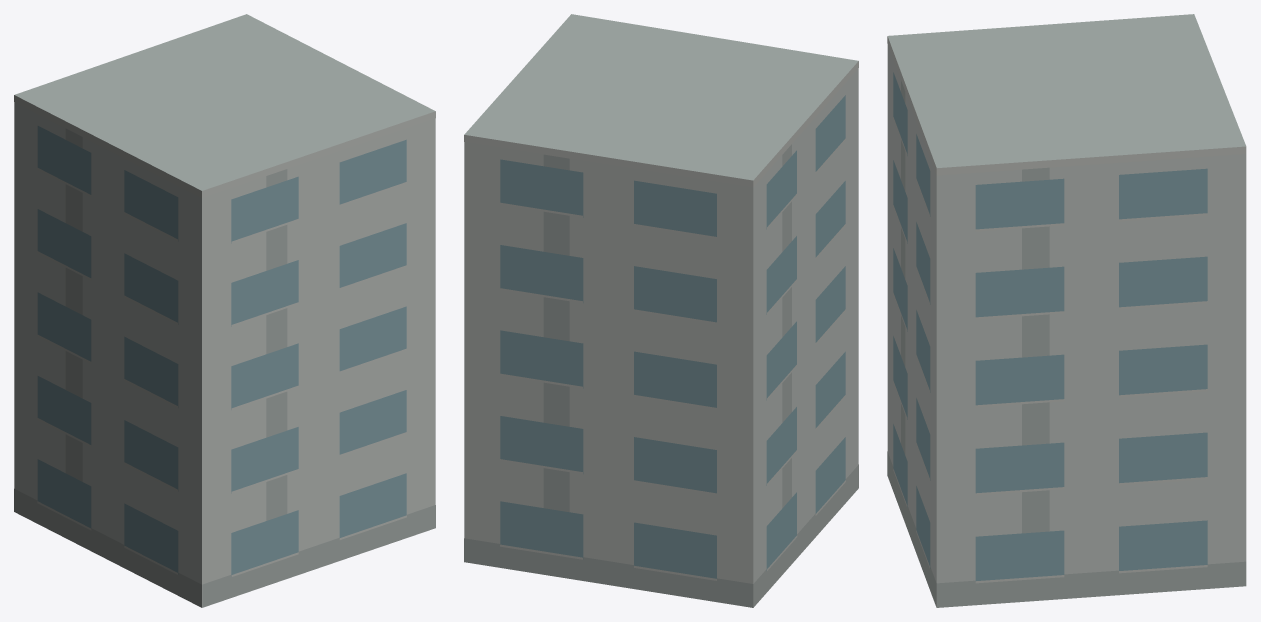
The model's file is survey-upis-33014200.glb.
3 renders of one model, left to right at view 1: azimuth 30°, elevation 25°; view 2: azimuth 150°, elevation 25°; view 3: azimuth 270°, elevation 25°, orthographic. The views are drawn at different scales.
Parts seen in each view (by area): view 1: survey-upis-33014200.tmp; view 2: survey-upis-33014200.tmp; view 3: survey-upis-33014200.tmp.
Part boxes in pixels (<box>): survey-upis-33014200.tmp: <box>14,14,435,607</box>; survey-upis-33014200.tmp: <box>464,14,858,607</box>; survey-upis-33014200.tmp: <box>887,14,1246,607</box>.
Size of the model in its own units: 10.91 by 14.5 by 10.74.
